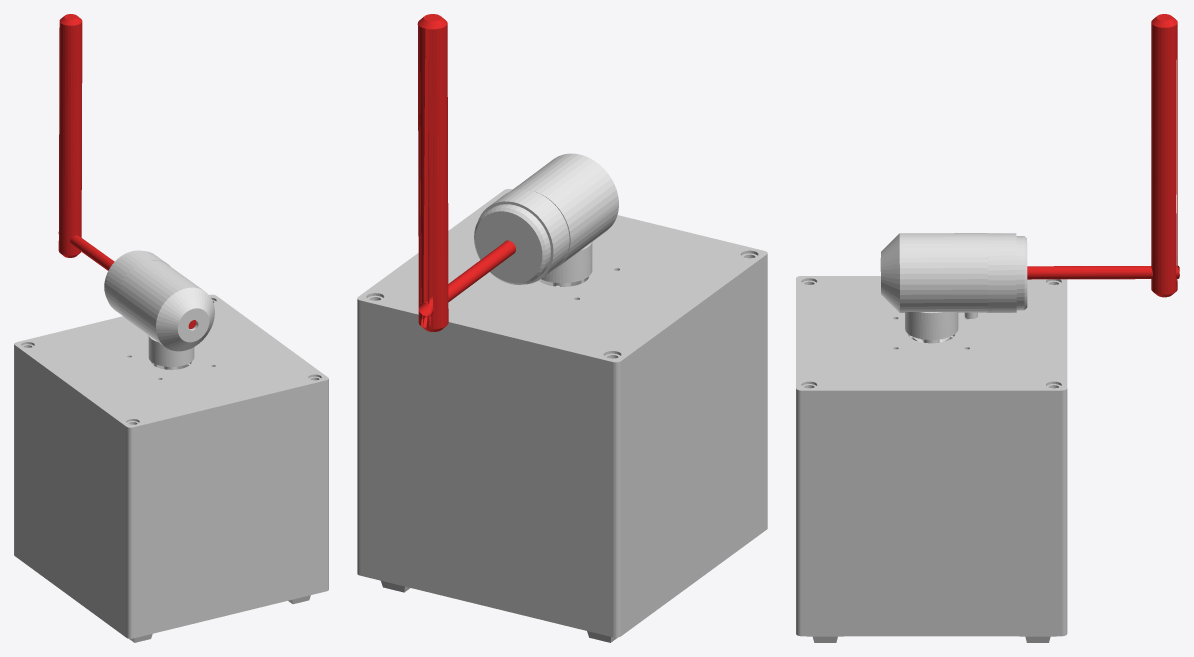
File: furuta.fbx
The picture shows the model from 3 angles, left to right: view 1: azimuth 30°, elevation 25°; view 2: azimuth 150°, elevation 25°; view 3: azimuth 270°, elevation 25°; orthographic projection. The views are drawn at different scales.
Parts seen in each view (by area): view 1: ShapeIndexedFaceSet.020, ShapeIndexedFaceSet.018, ShapeIndexedFaceSet, ShapeIndexedFaceSet.021, ShapeIndexedFaceSet.002, ShapeIndexedFaceSet.006, ShapeIndexedFaceSet.001; view 2: ShapeIndexedFaceSet.020, ShapeIndexedFaceSet.018, ShapeIndexedFaceSet.021, ShapeIndexedFaceSet.002, ShapeIndexedFaceSet, ShapeIndexedFaceSet.001, ShapeIndexedFaceSet.006; view 3: ShapeIndexedFaceSet.020, ShapeIndexedFaceSet.018, ShapeIndexedFaceSet, ShapeIndexedFaceSet.021, ShapeIndexedFaceSet.002, ShapeIndexedFaceSet.001, ShapeIndexedFaceSet.006.
Boxes of the visible parts, left/top/right/bottom form: ShapeIndexedFaceSet.020: left=14, top=294, right=328, bottom=642; ShapeIndexedFaceSet.018: left=17, top=296, right=325, bottom=426; ShapeIndexedFaceSet: left=117, top=260, right=214, bottom=351; ShapeIndexedFaceSet.021: left=58, top=14, right=82, bottom=257; ShapeIndexedFaceSet.002: left=104, top=250, right=170, bottom=315; ShapeIndexedFaceSet.006: left=148, top=335, right=194, bottom=366; ShapeIndexedFaceSet.001: left=58, top=232, right=196, bottom=328; ShapeIndexedFaceSet.020: left=357, top=189, right=767, bottom=642; ShapeIndexedFaceSet.018: left=361, top=190, right=763, bottom=360; ShapeIndexedFaceSet.021: left=417, top=14, right=448, bottom=331; ShapeIndexedFaceSet.002: left=474, top=189, right=569, bottom=284; ShapeIndexedFaceSet: left=510, top=153, right=618, bottom=268; ShapeIndexedFaceSet.001: left=418, top=240, right=515, bottom=316; ShapeIndexedFaceSet.006: left=541, top=242, right=592, bottom=283; ShapeIndexedFaceSet.020: left=796, top=276, right=1067, bottom=642; ShapeIndexedFaceSet.018: left=798, top=277, right=1064, bottom=389; ShapeIndexedFaceSet: left=880, top=233, right=987, bottom=312; ShapeIndexedFaceSet.021: left=1151, top=14, right=1177, bottom=297; ShapeIndexedFaceSet.002: left=987, top=233, right=1027, bottom=312; ShapeIndexedFaceSet.001: left=1027, top=265, right=1179, bottom=279; ShapeIndexedFaceSet.006: left=905, top=312, right=958, bottom=339.
Bounding box in the file's own units: 133 × 312 × 189.
